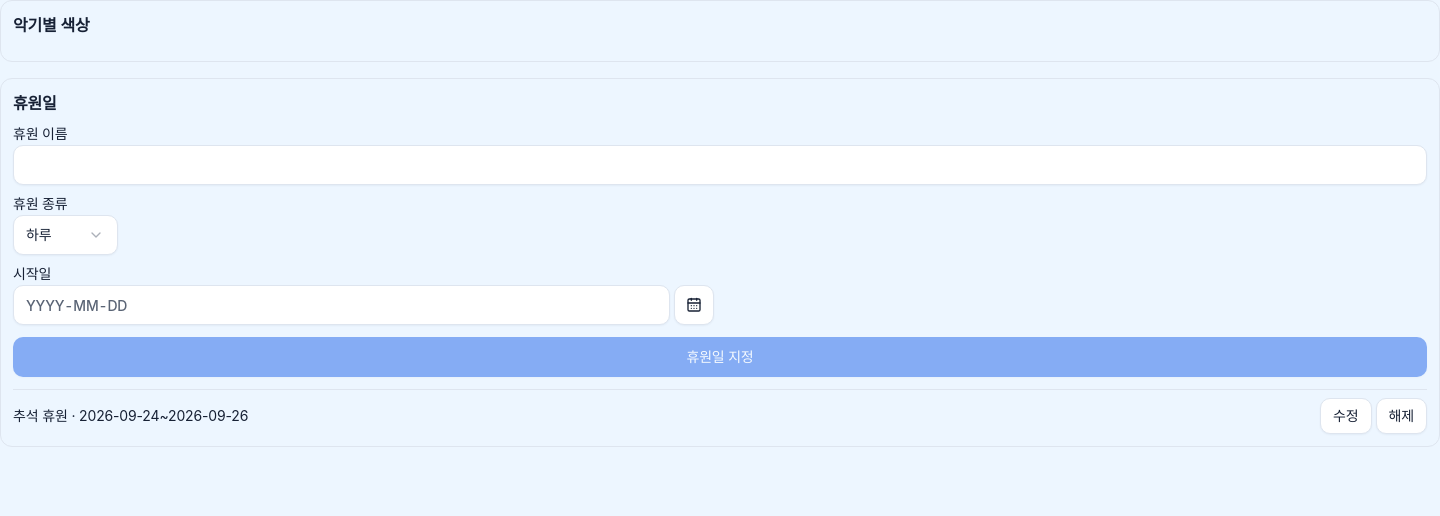
Test: 레슨 시간표 설정 › 기존 휴원일 수정 후 새 휴원일 입력으로 전환할 수 있다
The width and height of the screenshot is (1440, 516).
Click the button "수정".
click(1346, 416)  # box x1=1320 y1=398 x2=1372 y2=434
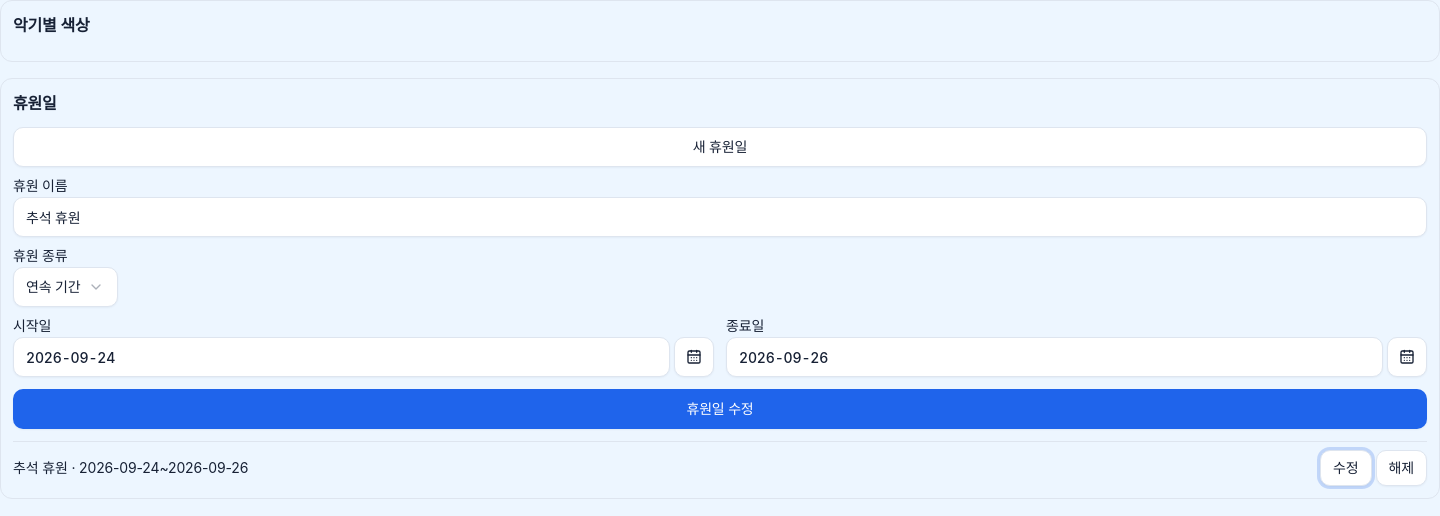
Expected: the button "휴원일 수정" is shown, x1=13 y1=389 x2=1427 y2=429
Click the button "새 휴원일".
click(720, 147)  # box x1=13 y1=127 x2=1427 y2=167
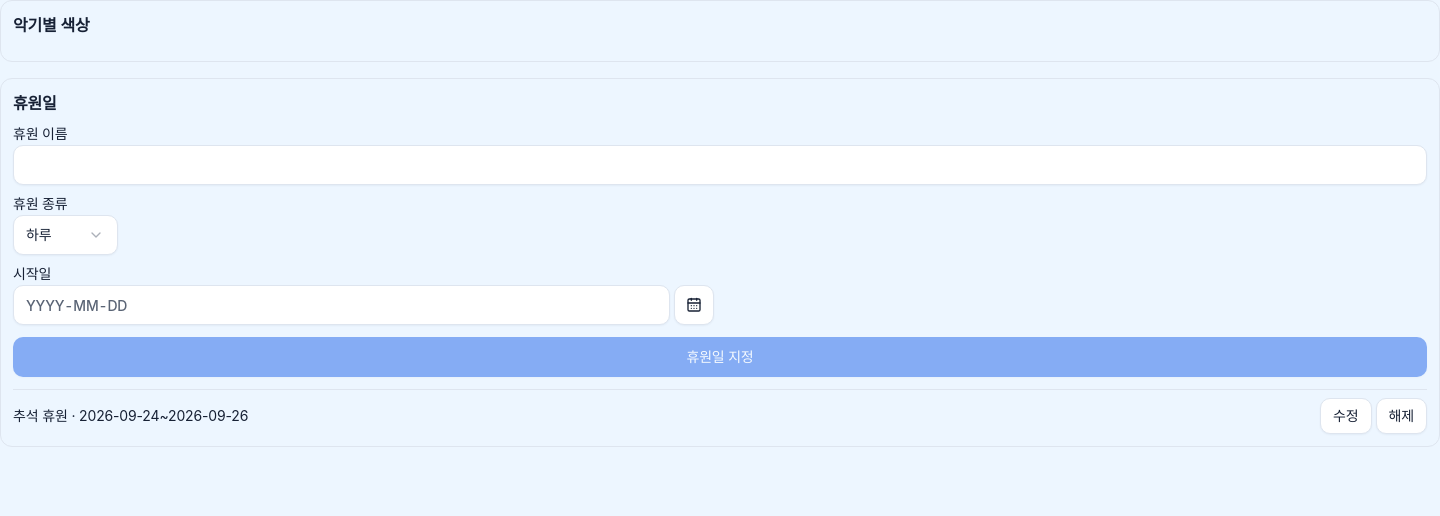
Expected: the field labelled "휴원 이름" is empty, x1=13 y1=145 x2=1427 y2=185
Expected: the button "휴원일 지정" is disabled, x1=13 y1=337 x2=1427 y2=377
